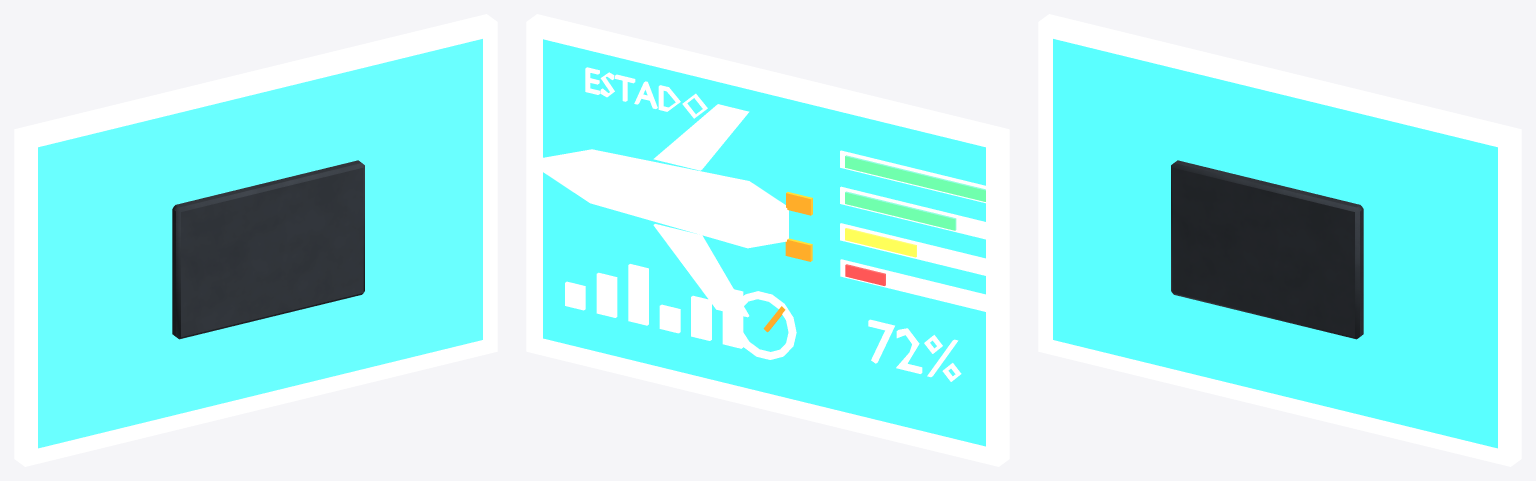
File: pantalla_estado_nave.fbx
The picture shows the model from 3 angles, left to right: view 1: azimuth 30°, elevation 25°; view 2: azimuth 150°, elevation 25°; view 3: azimuth 330°, elevation 25°; orthographic projection.
Parts seen in each view (by area): view 1: pantalla_estado_nave_panel_neon, pantalla_estado_nave_marco_neon, pantalla_estado_nave; view 2: pantalla_estado_nave_panel_neon, pantalla_estado_nave_marco_neon, pantalla_estado_nave_esquema_neon, pantalla_estado_nave_verde_neon, pantalla_estado_nave_naranja_neon, pantalla_estado_nave_amarillo_neon, pantalla_estado_nave_rojo_neon; view 3: pantalla_estado_nave_panel_neon, pantalla_estado_nave_marco_neon, pantalla_estado_nave.
Part boxes in pixels (<box>): pantalla_estado_nave_panel_neon: <box>38,39,482,448</box>; pantalla_estado_nave_marco_neon: <box>14,14,497,466</box>; pantalla_estado_nave: <box>172,160,364,339</box>; pantalla_estado_nave_panel_neon: <box>543,39,985,446</box>; pantalla_estado_nave_marco_neon: <box>526,14,1009,466</box>; pantalla_estado_nave_esquema_neon: <box>539,67,961,381</box>; pantalla_estado_nave_verde_neon: <box>845,155,985,230</box>; pantalla_estado_nave_naranja_neon: <box>763,192,812,332</box>; pantalla_estado_nave_amarillo_neon: <box>845,228,916,257</box>; pantalla_estado_nave_rojo_neon: <box>845,264,885,285</box>; pantalla_estado_nave_panel_neon: <box>1053,39,1497,448</box>; pantalla_estado_nave_marco_neon: <box>1038,14,1521,466</box>; pantalla_estado_nave: <box>1171,160,1363,339</box>.
Size of the model in its own units: 3 by 2 by 0.2407.
Materials: 2 (2 with a texture image).
